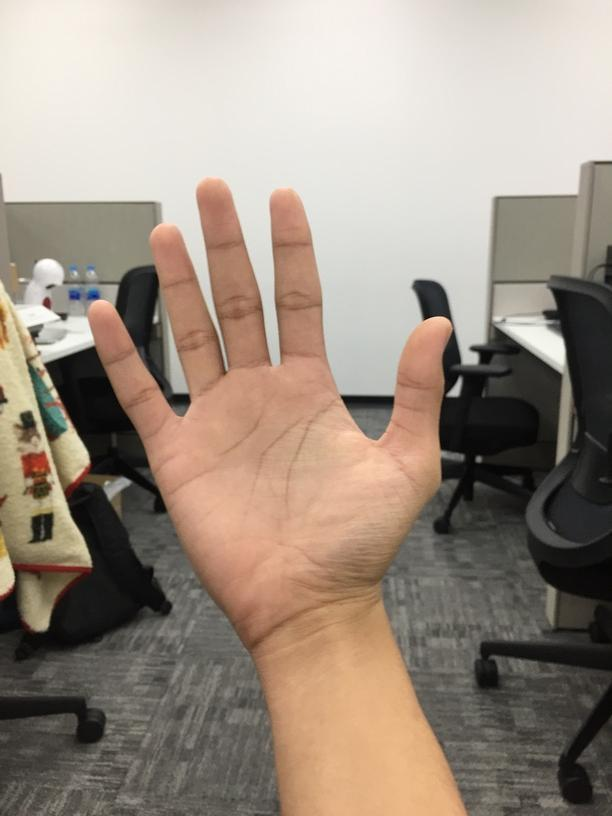hand: (88, 170, 451, 622)
